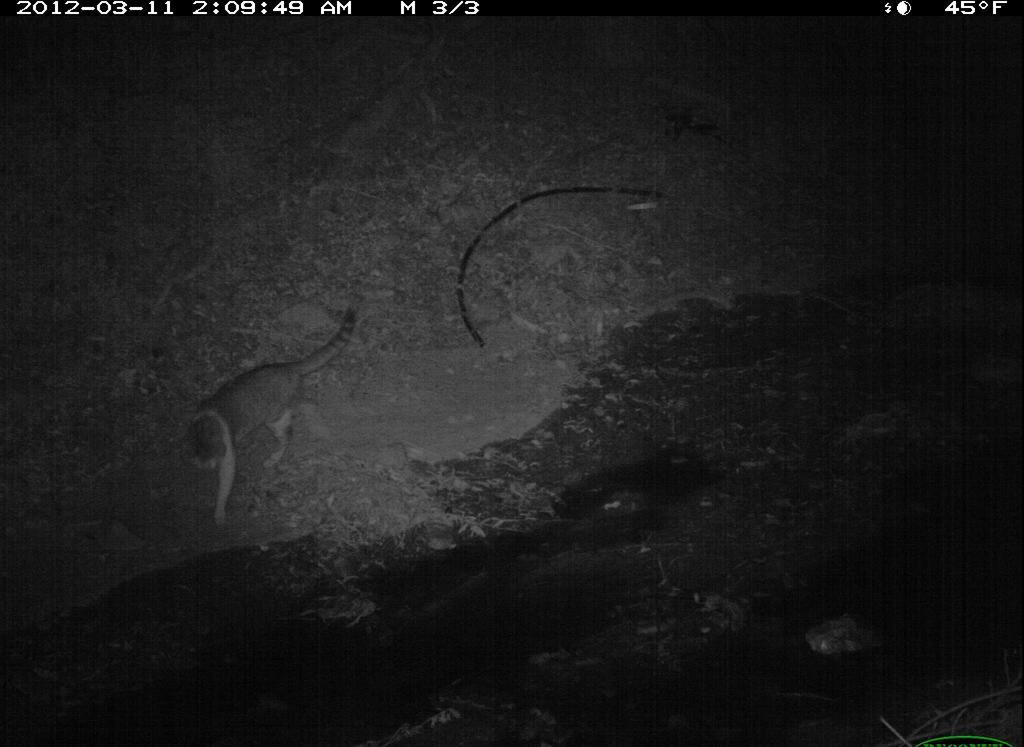cat: (169, 290, 373, 539)
